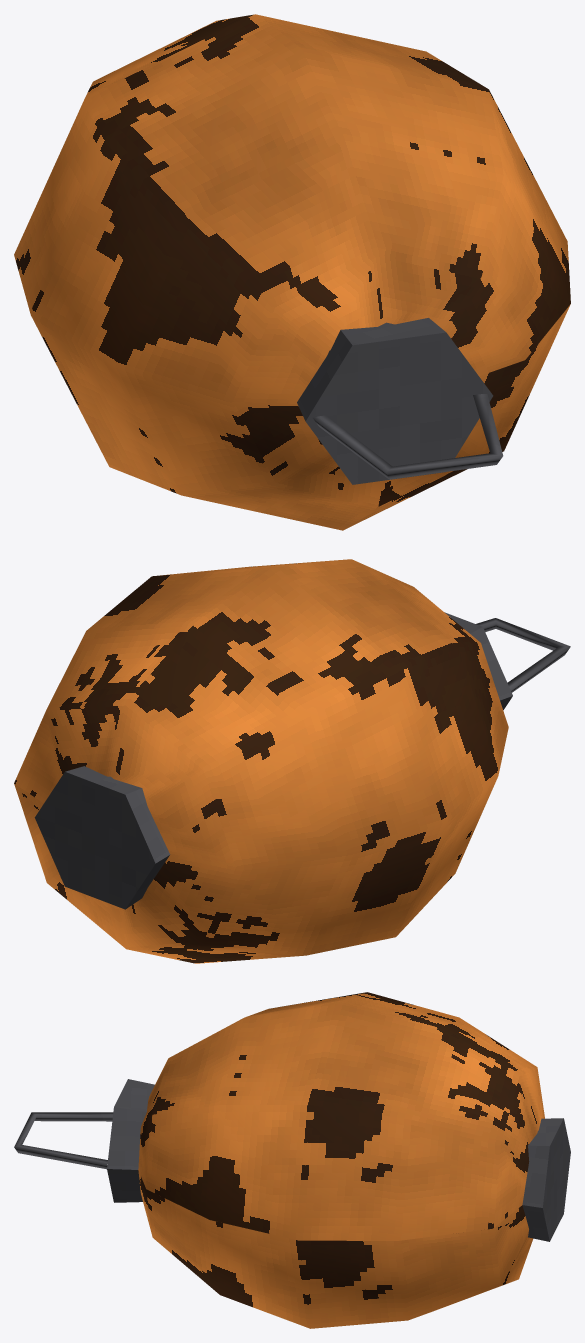
The model's file is festival_lantern.glb.
3 renders of one model, top to bottom at view 1: azimuth 30°, elevation 25°; view 2: azimuth 150°, elevation 25°; view 3: azimuth 270°, elevation 25°, orthographic. The views are drawn at different scales.
Parts seen in each view (by area): view 1: detail; view 2: detail; view 3: detail.
Part boxes in pixels (bbox=[...]): detail: bbox=[14, 14, 570, 530]; detail: bbox=[14, 559, 570, 963]; detail: bbox=[14, 992, 570, 1328].
Size of the model in its own units: 0.3925 by 0.36 by 0.575.
2 materials, 2 textured.
